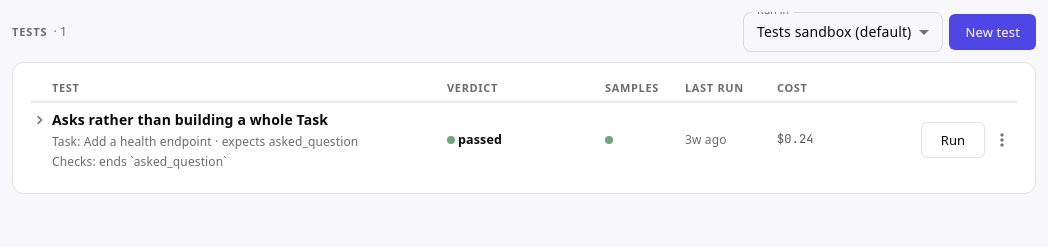
Test case: TestsTabContent › shows the label a batch was run under
Click the button with aria-label "Show history for Asks rather than building a whole Task" at coordinates (190, 119), box top-left (27, 103), bottom-right (1021, 177)
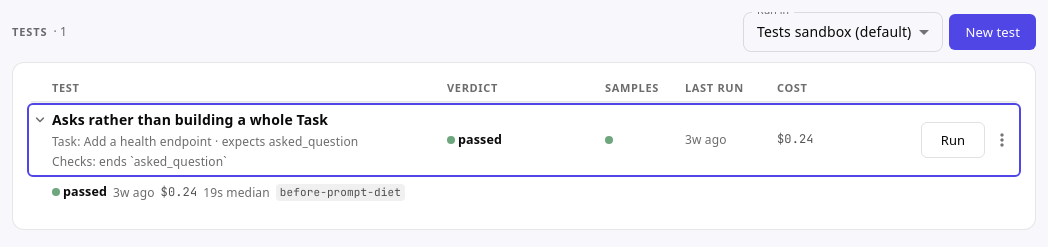
Check: the text "before-prompt-diet" is shown, box top-left (276, 184), bottom-right (405, 201)
